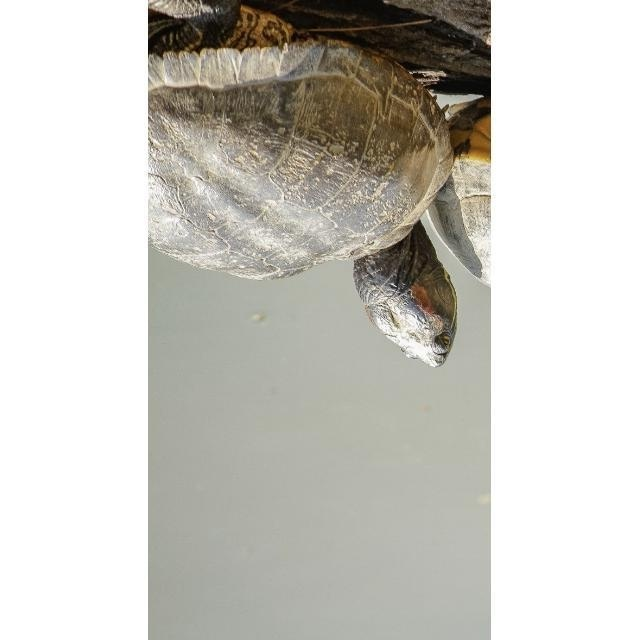turtle: (151, 3, 458, 368)
